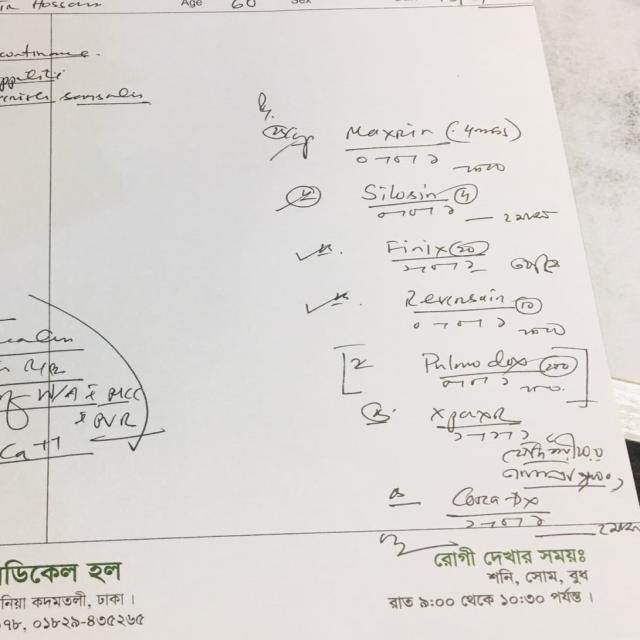Cora DX: (443, 479, 546, 516)
Finix: (377, 236, 451, 259)
Maxrin: (337, 116, 445, 149)
Pulmodox: (414, 344, 536, 377)
Reversair: (391, 282, 513, 310)
Silosin: (360, 176, 450, 207)
Xpa XR: (422, 402, 526, 433)
